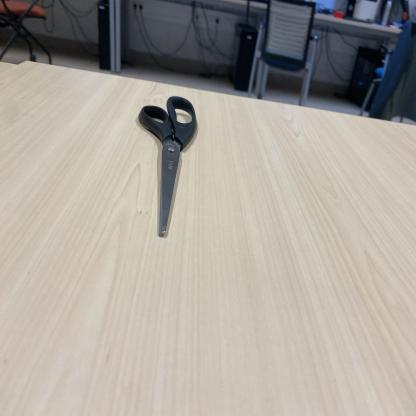scissors: (138, 96, 200, 240)
